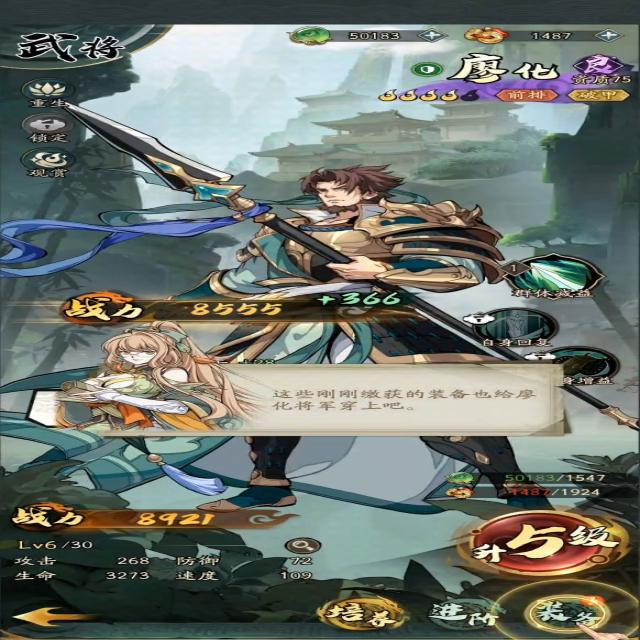hint-guide: (23, 326, 567, 441), (491, 579, 640, 639)
operation-advanced: (424, 597, 510, 631)
operation-back: (2, 600, 114, 632)
operation-equipment: (525, 594, 612, 634)
operation-levelUp: (460, 507, 630, 575)
operation-train: (313, 595, 409, 633)
skill-multi1-off: (522, 345, 624, 388)
skill-multi2-off: (462, 308, 564, 349)
skill-multi3-on: (498, 250, 610, 301)
